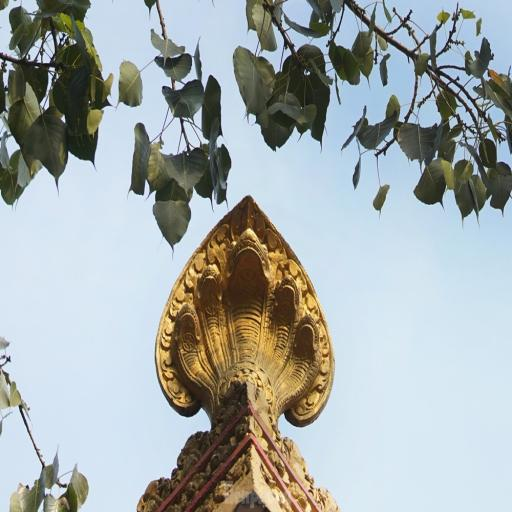ran: (143, 175, 357, 460)
